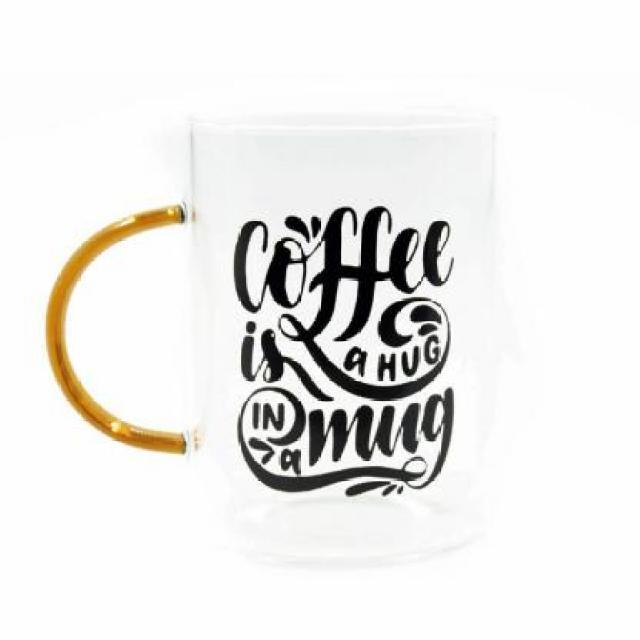taza: (34, 101, 528, 574)
